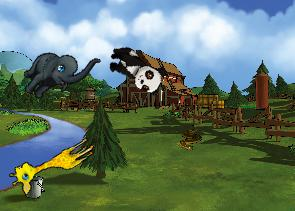elephant: (15, 28, 101, 117)
giraffe: (5, 126, 98, 198)
panda: (102, 41, 169, 98)
